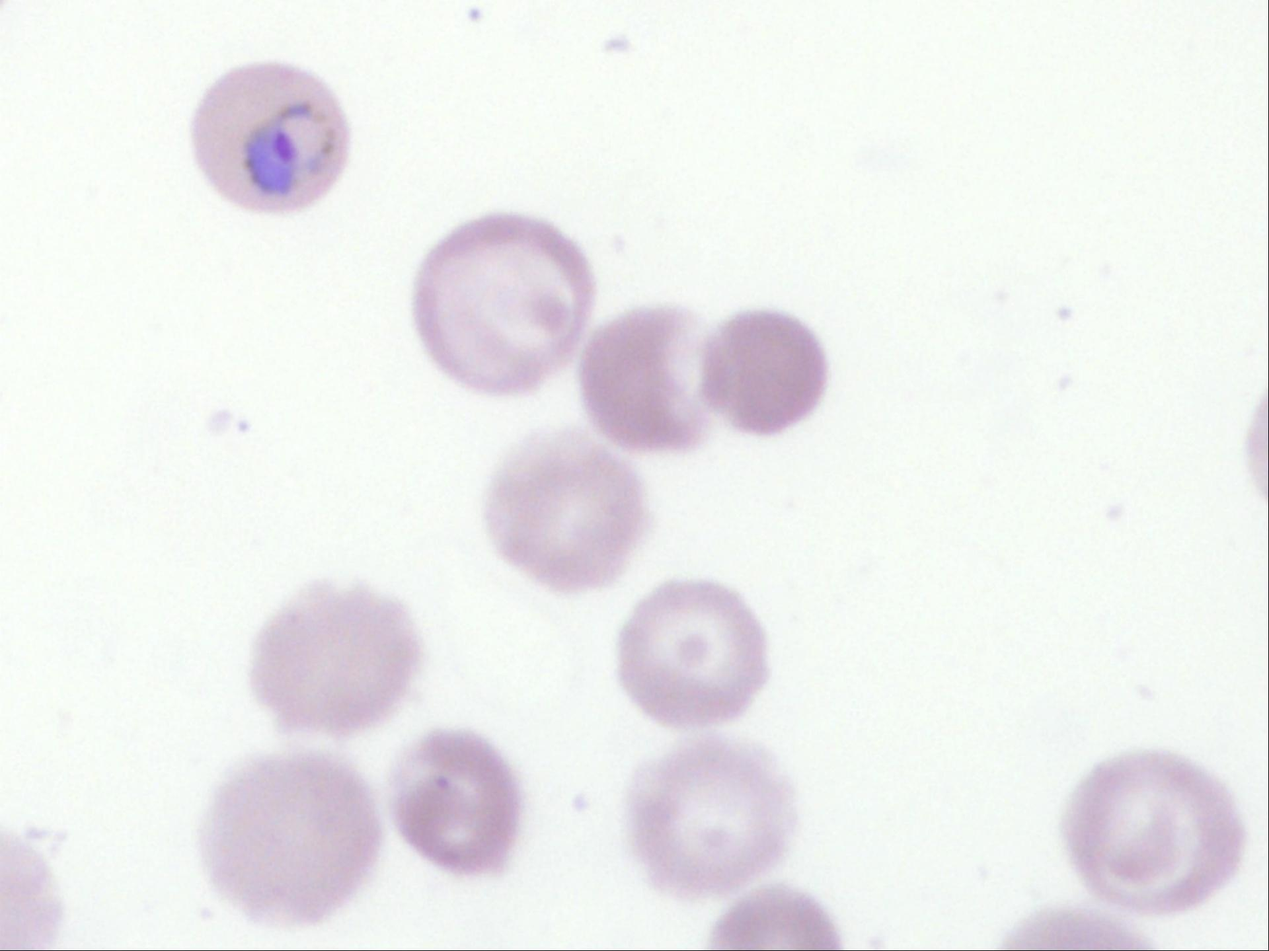Infected: (189, 64, 345, 212)
Uninfected: (415, 212, 588, 397), (195, 752, 383, 921), (1064, 752, 1240, 915), (484, 437, 649, 594), (632, 740, 790, 903), (251, 582, 416, 736), (613, 580, 768, 731), (583, 303, 724, 448), (388, 732, 517, 871), (702, 304, 830, 434)
